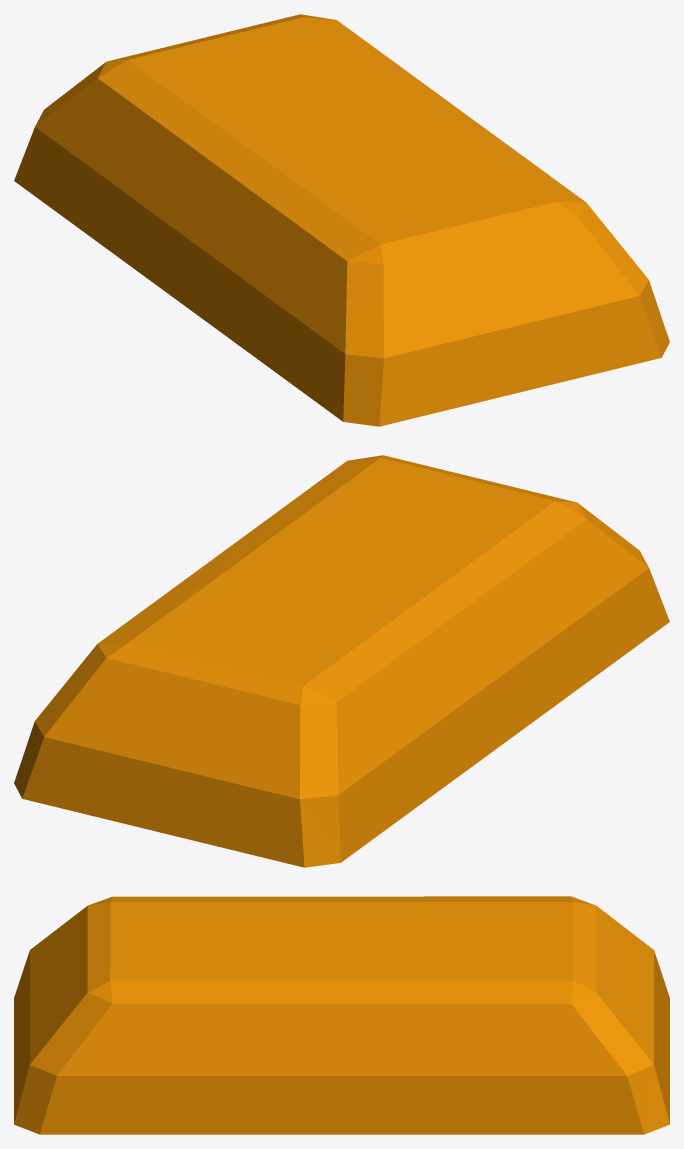
The model's file is _gold_2.fbx.
The picture shows the model from 3 angles, top to bottom: view 1: azimuth 30°, elevation 25°; view 2: azimuth 150°, elevation 25°; view 3: azimuth 270°, elevation 25°; orthographic projection. The views are drawn at different scales.
Parts seen in each view (by area): view 1: gold_2; view 2: gold_2; view 3: gold_2.
Part boxes in pixels (x1=…): gold_2: x1=14, y1=14, x2=669, y2=426; gold_2: x1=14, y1=455, x2=669, y2=867; gold_2: x1=14, y1=896, x2=669, y2=1134.
Bounding box in the file's own units: 10.12 × 3.87 × 19.17.
